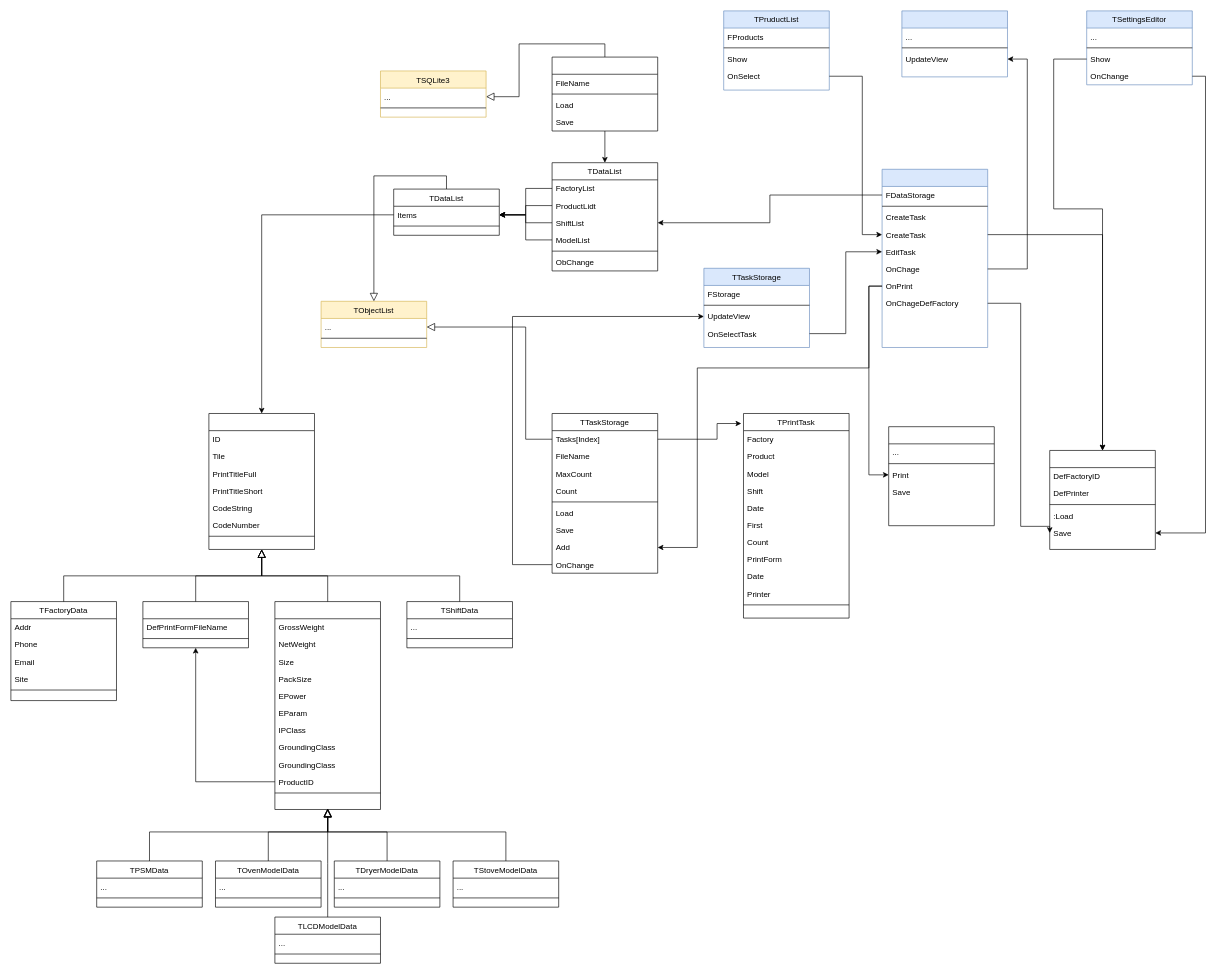
The diagram is 1216 pixels wide and 974 high, and some of its shapes have lost their labels. The box of each missing label's shape, as (x1, y1, x2, y2) in pixels:
TDBController: (551, 56, 658, 131)
TLabelData: (208, 413, 314, 549)
TModelData: (274, 601, 380, 809)
TPreview: (901, 10, 1007, 77)
TPrintController: (888, 426, 994, 526)
TProductData: (142, 601, 248, 648)
TSettings: (1049, 450, 1155, 549)
TTaskEditor: (881, 169, 988, 347)
